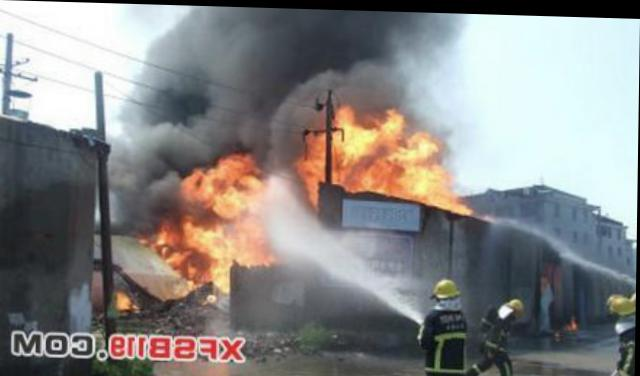fire: (371, 135, 457, 195), (336, 105, 401, 184), (185, 149, 263, 213), (184, 217, 275, 258), (298, 127, 329, 208), (156, 216, 181, 246), (213, 255, 233, 287)
